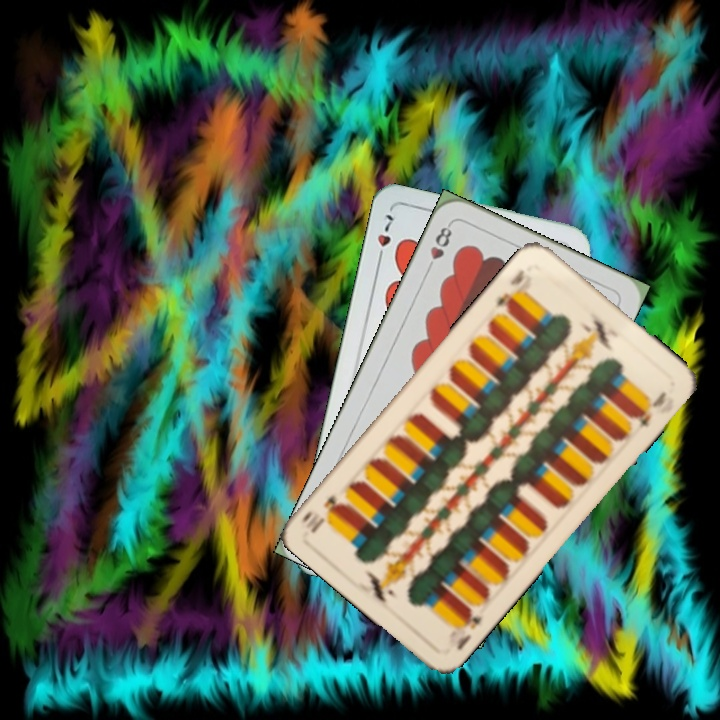E10: (449, 603, 485, 653), (492, 265, 527, 313)
H7: (373, 210, 396, 266)
H8: (422, 219, 455, 275)
